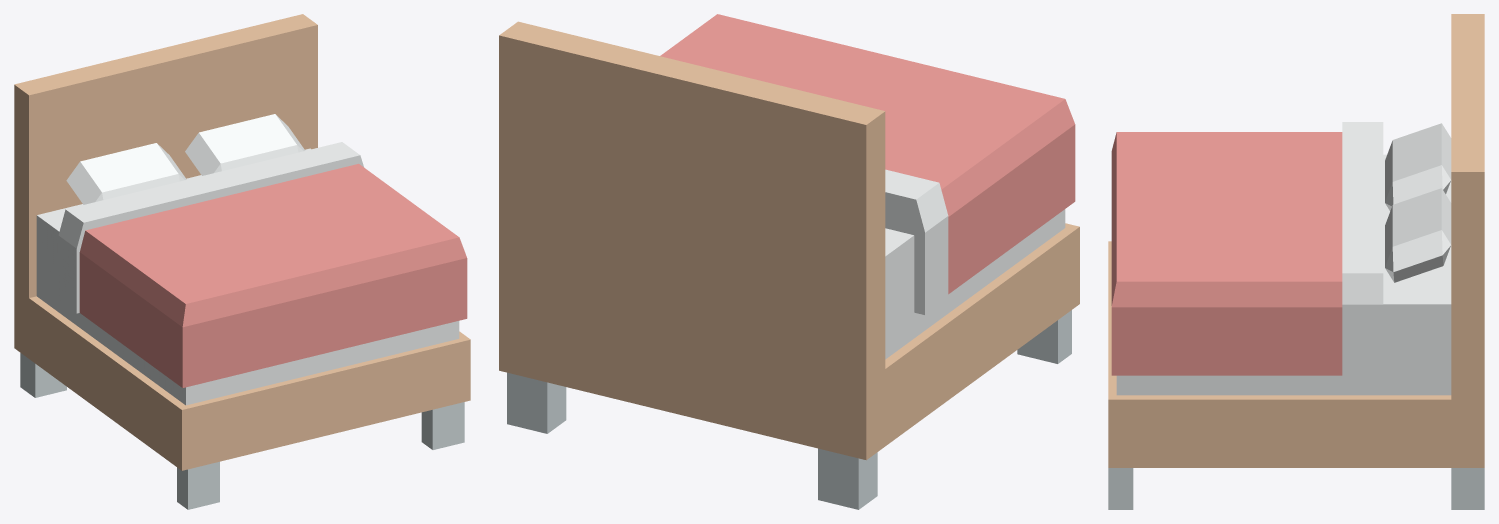
File: kn-bed-double.glb
The picture shows the model from 3 angles, left to right: view 1: azimuth 30°, elevation 25°; view 2: azimuth 150°, elevation 25°; view 3: azimuth 270°, elevation 25°; orthographic projection. The views are drawn at different scales.
Parts seen in each view (by area): view 1: bedDouble(Clone), cover; view 2: bedDouble(Clone), cover; view 3: bedDouble(Clone), cover.
Boxes of the visible parts, x1,y1,x2,y2 form: bedDouble(Clone): (14, 14, 470, 509); cover: (79, 163, 467, 387); bedDouble(Clone): (499, 21, 1079, 509); cover: (660, 14, 1075, 294); bedDouble(Clone): (1108, 14, 1484, 509); cover: (1111, 132, 1342, 375).
Size of the model in its own units: 1 by 1 by 1.
